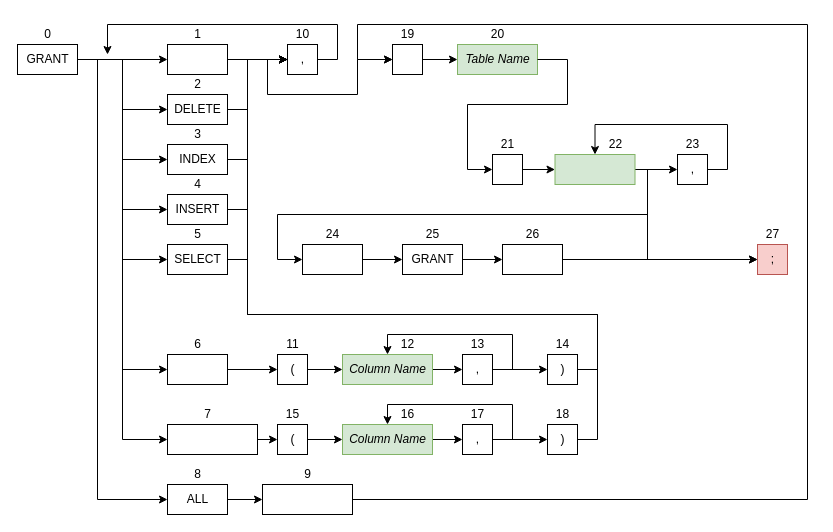
Some shapes in this 833 by 532 pixel diagram are drawn without their labels. Here are the shapes that lost their labels. From the top down, the centre of each, then its label:
At [197,59]: "ALTER".
At [407,59]: "ON".
At [507,169]: "TO".
At [594,169]: "Username".
At [332,259]: "WITH".
At [532,259]: "OPTION".
At [197,369]: "UPDATE".
At [212,439]: "REFERENCES".
At [307,499]: "PRIVILEGES".
